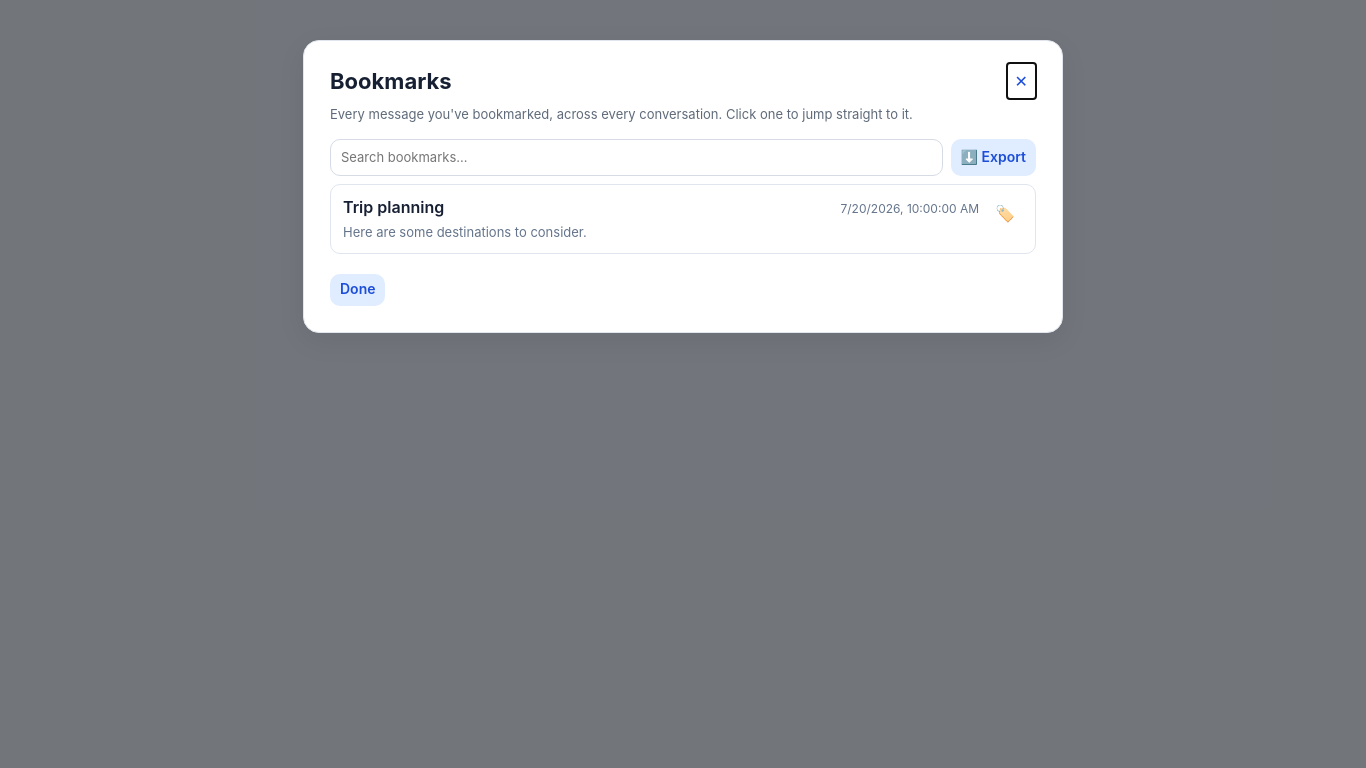
Test: Bookmarks › removes a bookmark via PUT and drops it from the list
Expected: the text "Trip planning" is shown, [343,195,444,219]
Click the button named "Remove bookmark from Trip planning". click: x=1005, y=213
box: [987,195,1023,231]
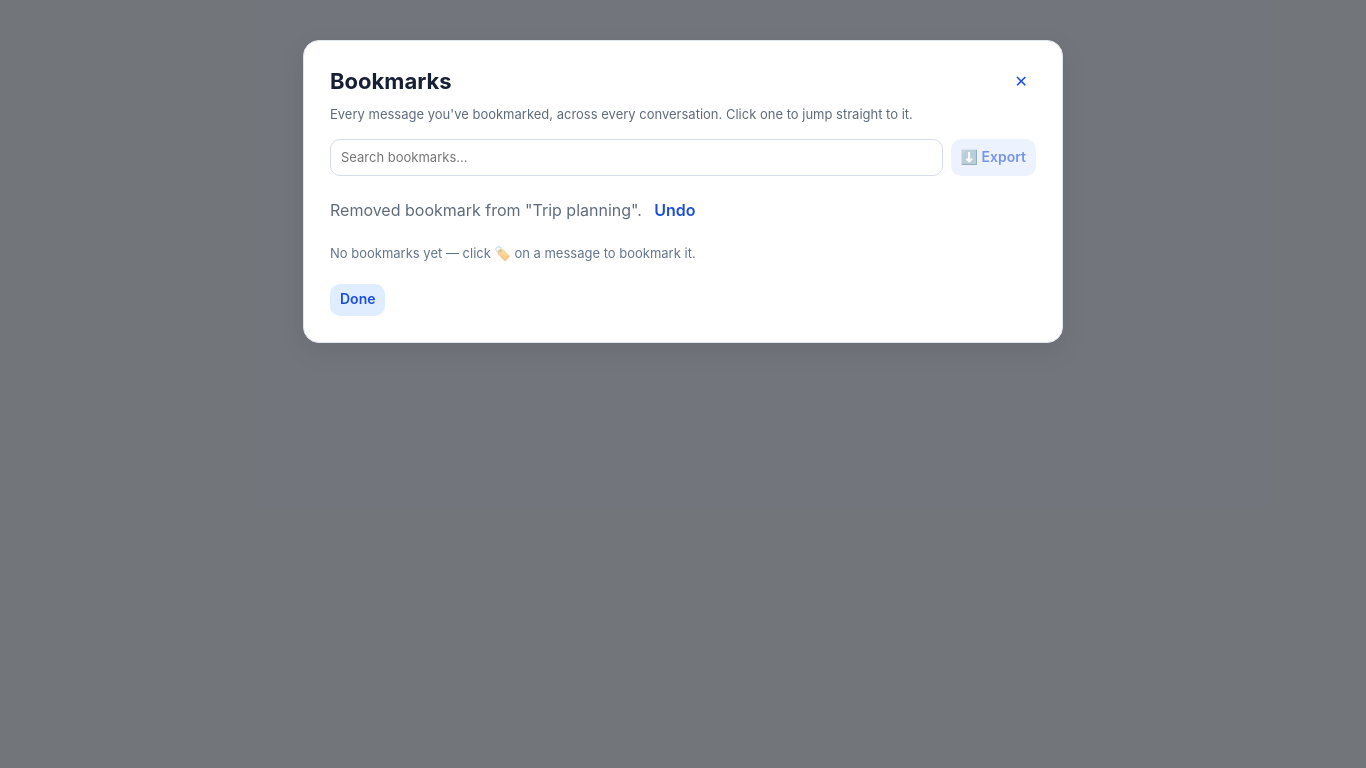
Result: the text "No bookmarks yet — click 🏷️ on a message to bookmark it." is shown at [330,245,696,261]
